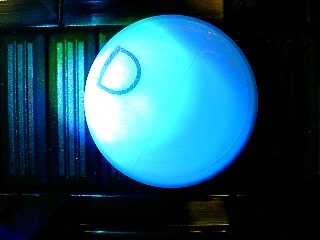MIPO1: (84, 14, 259, 188)
